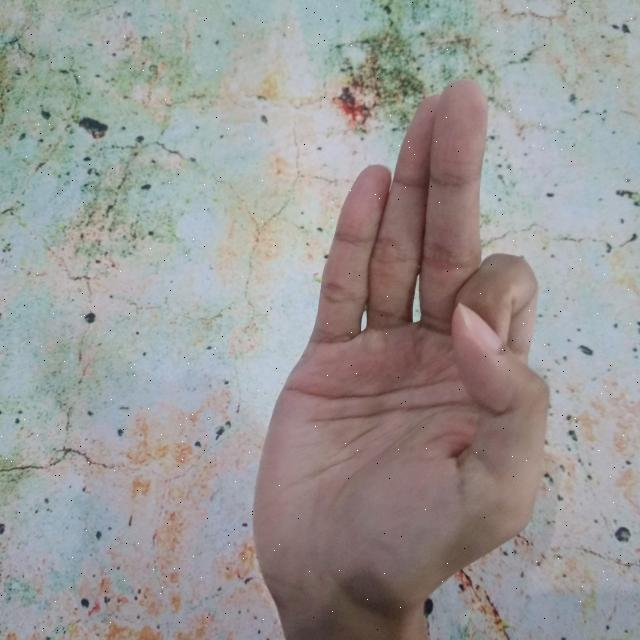F: (252, 77, 551, 640)
